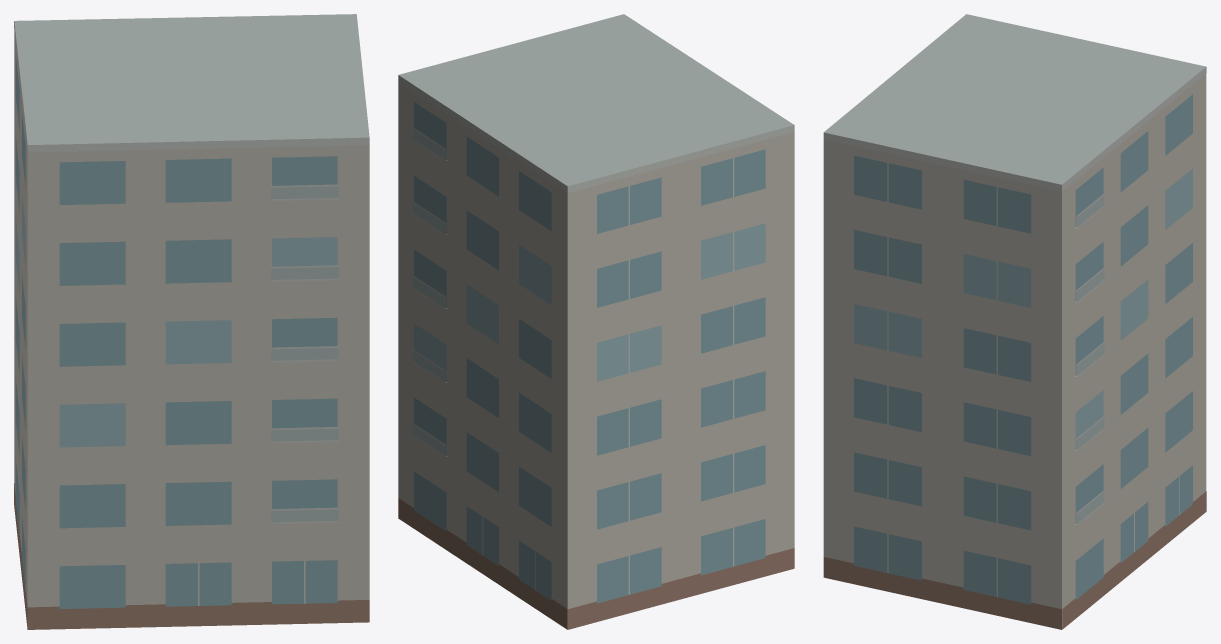
The model's file is survey-upis-32892424.glb.
3 views of the same model, side by side, from view 1: azimuth 30°, elevation 25°; view 2: azimuth 150°, elevation 25°; view 3: azimuth 270°, elevation 25° (orthographic). The views are drawn at different scales.
Parts seen in each view (by area): view 1: survey-upis-32892424.tmp; view 2: survey-upis-32892424.tmp; view 3: survey-upis-32892424.tmp.
Part boxes in pixels (<box>): survey-upis-32892424.tmp: <box>14,14,369,629</box>; survey-upis-32892424.tmp: <box>398,14,794,629</box>; survey-upis-32892424.tmp: <box>823,14,1206,629</box>.
Bounding box in the file's own units: 13.01 × 15.8 × 12.33.
